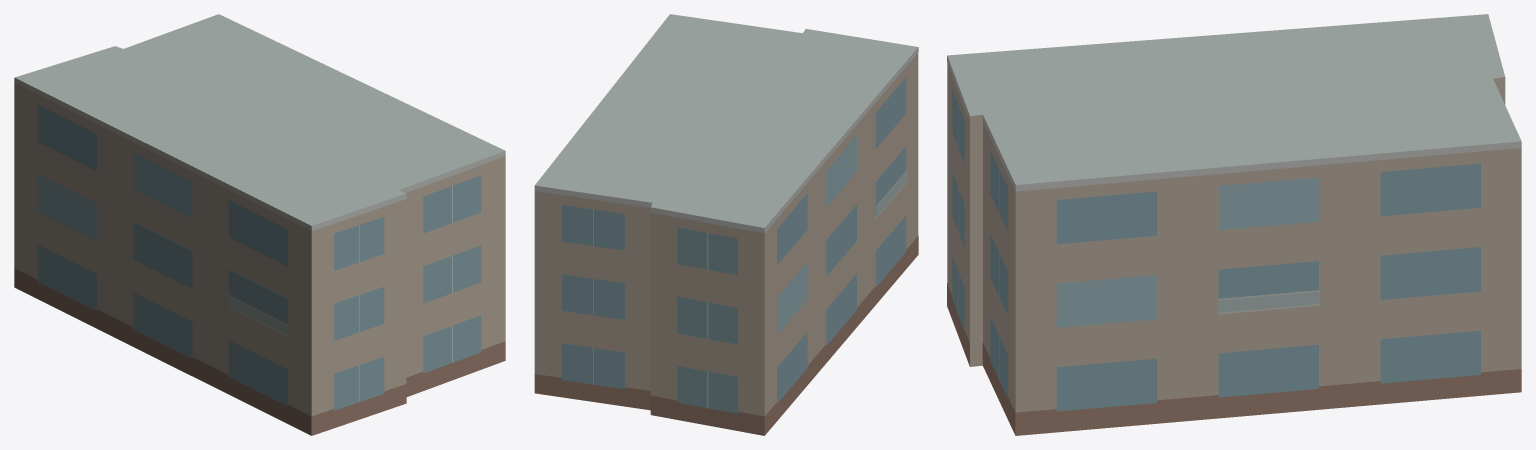
The model's file is survey-upis-32705561.glb.
3 renders of one model, left to right at view 1: azimuth 30°, elevation 25°; view 2: azimuth 150°, elevation 25°; view 3: azimuth 270°, elevation 25°, orthographic. The views are drawn at different scales.
Parts seen in each view (by area): view 1: survey-upis-32705561.tmp; view 2: survey-upis-32705561.tmp; view 3: survey-upis-32705561.tmp.
Part boxes in pixels (x1=…): survey-upis-32705561.tmp: x1=14, y1=14, x2=505, y2=435; survey-upis-32705561.tmp: x1=534, y1=14, x2=918, y2=435; survey-upis-32705561.tmp: x1=947, y1=14, x2=1521, y2=435.
Size of the model in its own units: 13.83 by 9.45 by 19.63.
